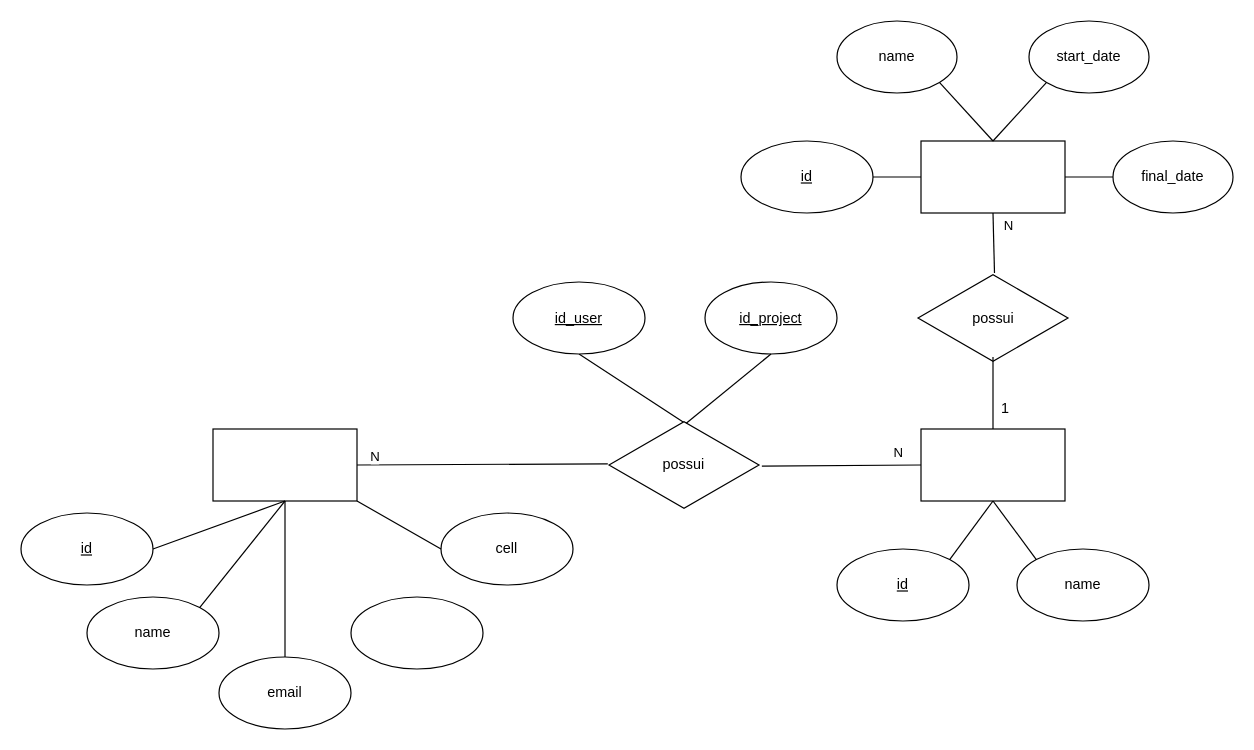
Image size: 1254x750. Some labels were removed from this diagram. Here are the shapes that lost their labels. From the top down, the box of each, then its label:
(920, 140, 1065, 213): task
(212, 428, 357, 501): user
(920, 428, 1065, 501): project
(350, 596, 483, 669): password
